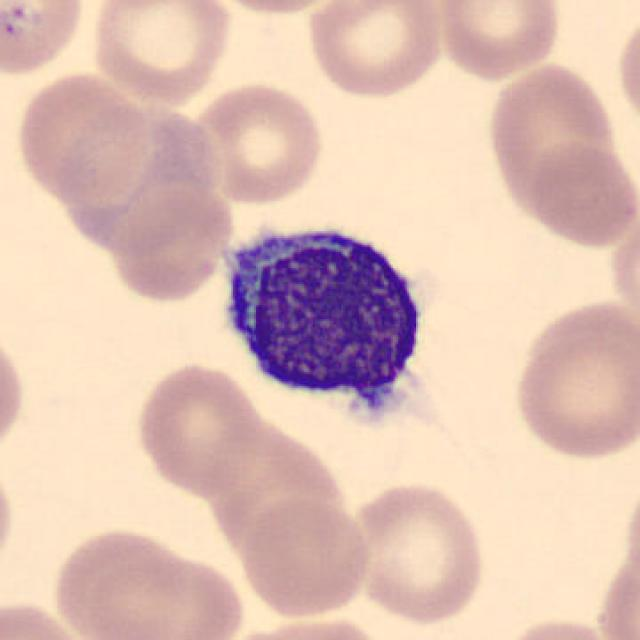Lymphocyte: (208, 206, 444, 441)
RBC: (482, 58, 624, 228), (46, 525, 249, 640), (55, 101, 219, 241), (507, 294, 638, 466), (345, 478, 489, 628), (131, 358, 265, 499), (13, 68, 151, 204), (185, 80, 327, 206), (237, 494, 375, 620), (108, 179, 234, 306), (87, 0, 235, 106), (302, 0, 449, 100), (522, 138, 636, 252), (432, 0, 565, 83), (0, 0, 89, 81), (213, 612, 393, 640), (594, 534, 638, 638), (0, 596, 100, 640), (0, 322, 28, 463), (494, 613, 625, 640), (613, 9, 640, 134), (197, 0, 354, 18), (0, 448, 20, 589)
